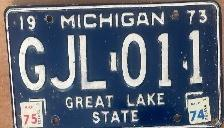0: (118, 31, 151, 88)
1: (155, 31, 176, 89), (188, 28, 207, 85)
G: (15, 34, 51, 94)
J: (49, 32, 77, 93)
L: (78, 34, 109, 90)
